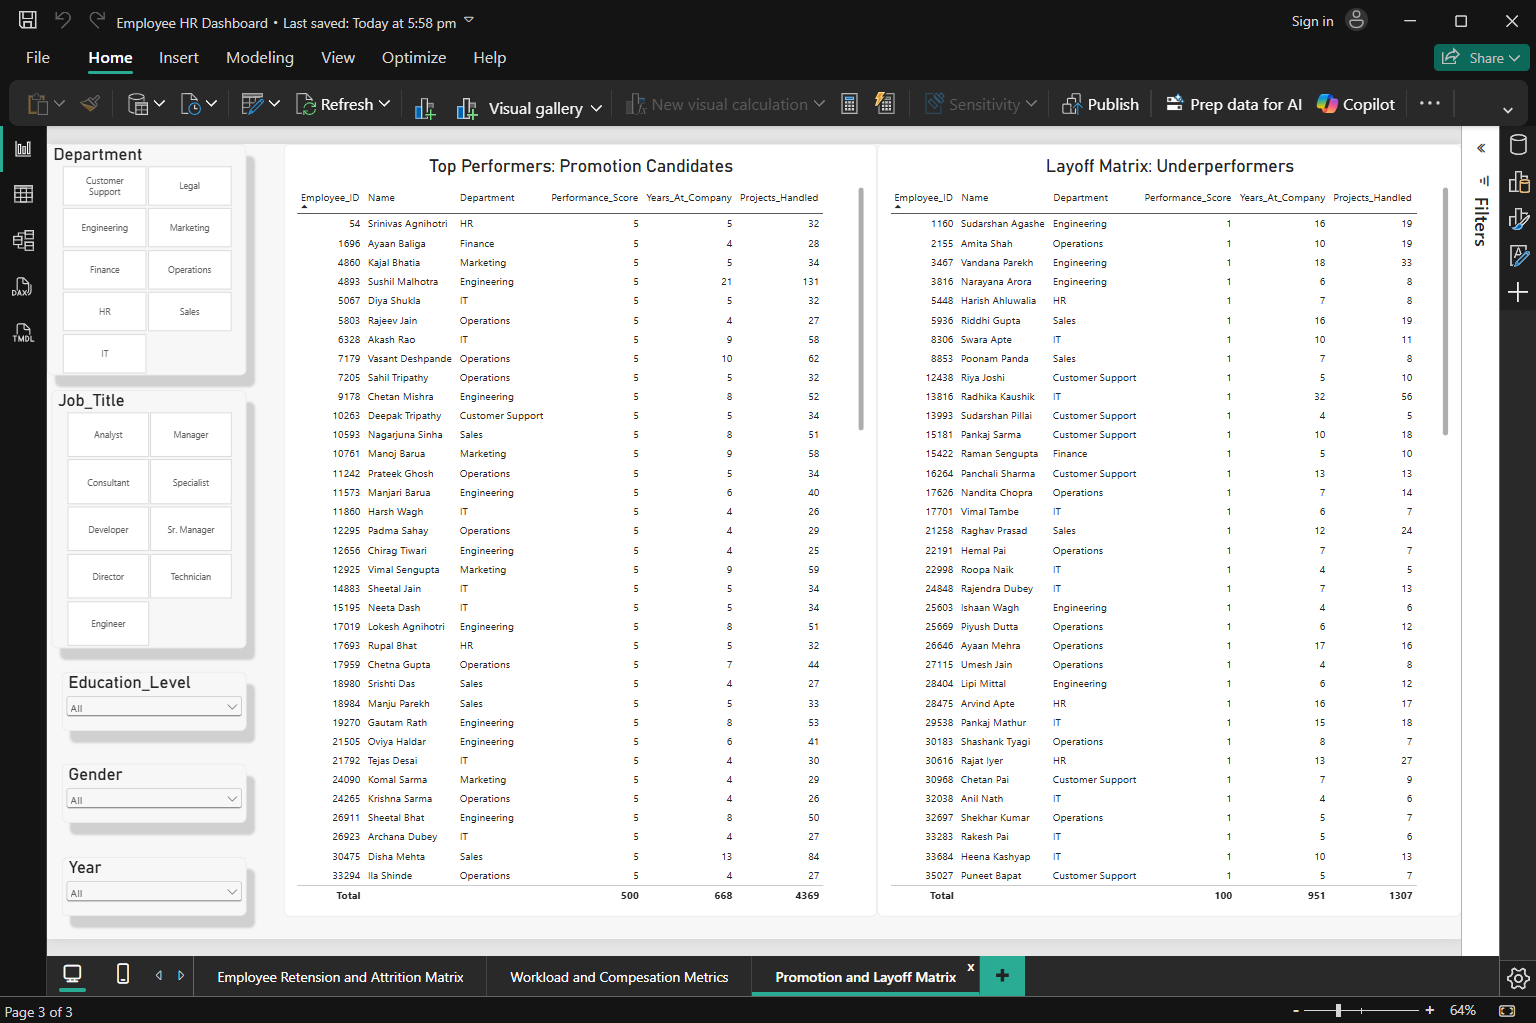

This screenshot's page, from the dashboard's own definition file:
{"tool":"powerbi","page":{"name":"Promotion and Layoff Matrix","canvas":[1920,1080],"ordinal":2},"visuals":[{"type":"slicer","fields":{"Values":["employee_hr_db vw_dim_employee.Department"]},"box":[0,0,270,314],"z":0},{"type":"slicer","fields":{"Values":["employee_hr_db vw_dim_employee.Job_Title"]},"box":[6,334,264,350],"z":1000},{"type":"slicer","fields":{"Values":["employee_hr_db vw_dim_employee.Education_Level"]},"box":[20,716,250,80],"z":2000},{"type":"slicer","fields":{"Values":["employee_hr_db vw_dim_employee.Gender"]},"box":[20,842,250,80],"z":3000},{"type":"slicer","fields":{"Values":["employee_hr_db vw_fact_record.Hire_Date.Variation.Date Hierarchy.Year"]},"box":[20,968,250,80],"z":4000},{"type":"tableEx","title":"Top Performers: Promotion Candidates","fields":{"Values":["employee_hr_db vw_dim_employee.Employee_ID","employee_hr_db vw_dim_employee.Name","employee_hr_db vw_dim_employee.Department","Sum(employee_hr_db vw_fact_record.Performance_Score)","Sum(employee_hr_db vw_fact_record.Years_At_Company)","Sum(employee_hr_db vw_fact_workload.Projects_Handled)"]},"box":[321.2,0,805.1,1049.1],"z":5000},{"type":"tableEx","title":"Layoff Matrix: Underperformers","fields":{"Values":["employee_hr_db vw_dim_employee.Employee_ID","employee_hr_db vw_dim_employee.Name","employee_hr_db vw_dim_employee.Department","Sum(employee_hr_db vw_fact_record.Performance_Score)","Sum(employee_hr_db vw_fact_record.Years_At_Company)","Sum(employee_hr_db vw_fact_workload.Projects_Handled)"]},"box":[1126.3,0,792.9,1049.1],"z":5001}]}

Visuals, with their boxes on the page's 1920x1080 design canvas (x1, y1, x2, y2). These are canvas units, not pixel positions in the 1536x1023 screenshot, which may show the page scaled, cropped or inside an application window:
slicer - employee_hr_db vw_dim_employee.Department: <box>0,0,270,314</box>
slicer - employee_hr_db vw_dim_employee.Job_Title: <box>6,334,270,684</box>
slicer - employee_hr_db vw_dim_employee.Education_Level: <box>20,716,270,796</box>
slicer - employee_hr_db vw_dim_employee.Gender: <box>20,842,270,922</box>
slicer - employee_hr_db vw_fact_record.Hire_Date.Variation.Date Hierarchy.Year: <box>20,968,270,1048</box>
"Top Performers: Promotion Candidates" tableEx: <box>321,0,1126,1049</box>
"Layoff Matrix: Underperformers" tableEx: <box>1126,0,1919,1049</box>
